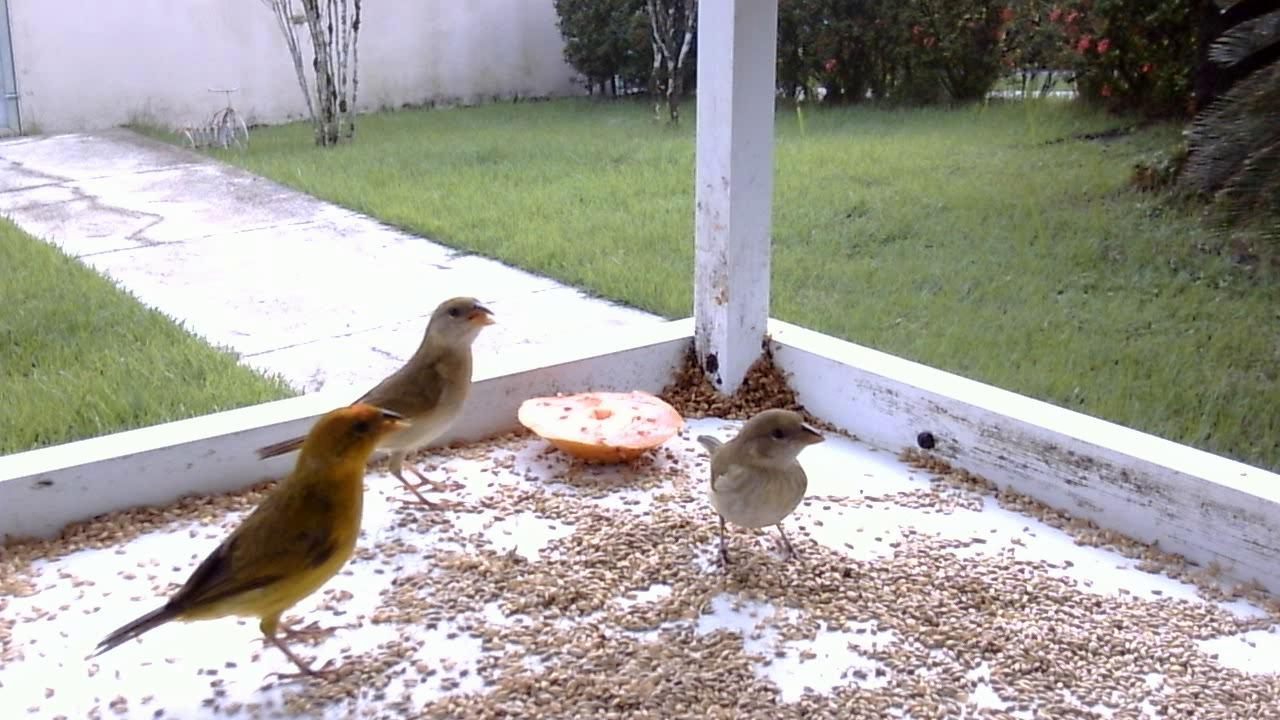canario_do_amazonas: (77, 397, 419, 702), (335, 291, 512, 519), (692, 406, 830, 575)
